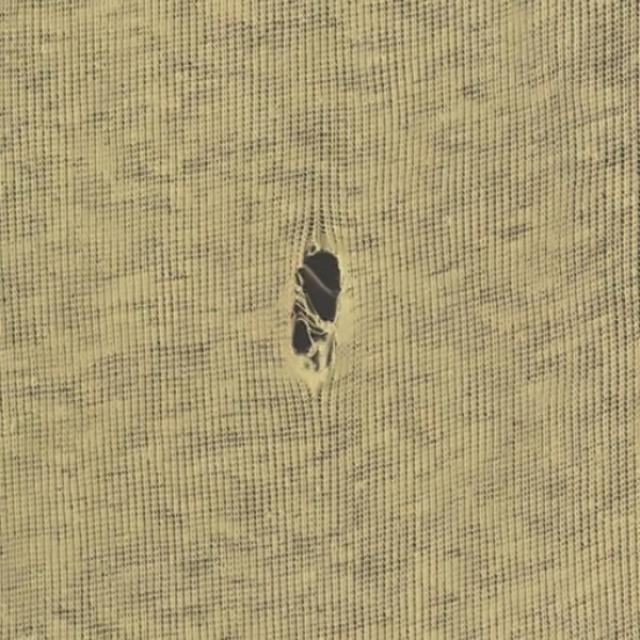other: (268, 224, 370, 406)
